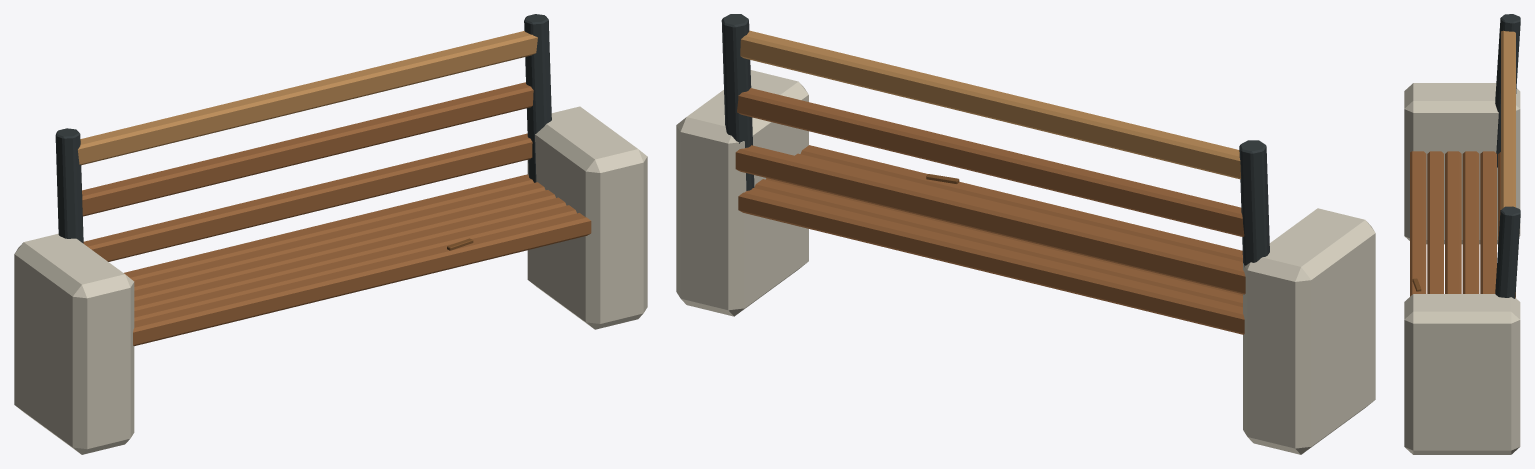
The model's file is runtime.glb.
The picture shows the model from 3 angles, left to right: view 1: azimuth 30°, elevation 25°; view 2: azimuth 150°, elevation 25°; view 3: azimuth 270°, elevation 25°; orthographic projection. The views are drawn at different scales.
Parts seen in each view (by area): view 1: eiffel-historic-bench-v09_nocol; view 2: eiffel-historic-bench-v09_nocol; view 3: eiffel-historic-bench-v09_nocol.
Boxes of the visible parts, x1=… form: eiffel-historic-bench-v09_nocol: x1=14, y1=14, x2=647, y2=454; eiffel-historic-bench-v09_nocol: x1=676, y1=14, x2=1375, y2=454; eiffel-historic-bench-v09_nocol: x1=1404, y1=14, x2=1520, y2=454.
Size of the model in its own units: 2.79 by 1.25 by 0.5827.
